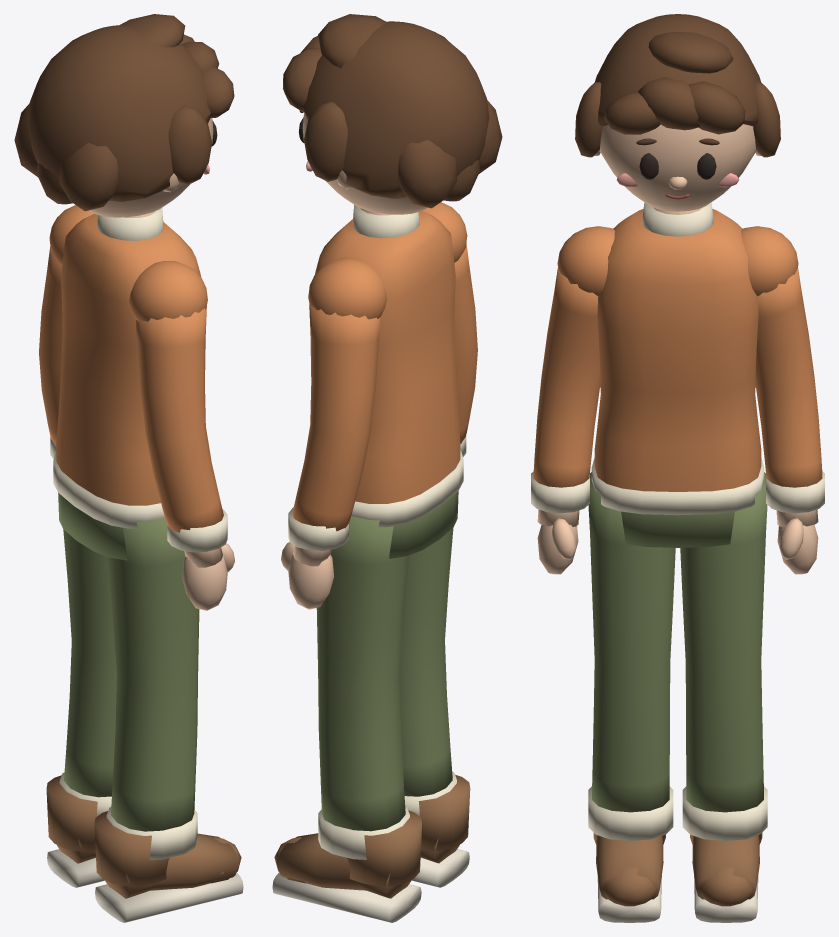
File: figure_proto.glb
3 views of the same model, side by side, from view 1: azimuth 30°, elevation 25°; view 2: azimuth 150°, elevation 25°; view 3: azimuth 270°, elevation 25° (orthographic).
Visible parts, largest first — view 1: figure_proto_fig_sweater, figure_proto_fig_pants, figure_proto_fig_hair, figure_proto_fig_shoe, figure_proto_fig_collar, figure_proto_fig_sole, figure_proto_fig_skin; view 2: figure_proto_fig_sweater, figure_proto_fig_pants, figure_proto_fig_hair, figure_proto_fig_shoe, figure_proto_fig_collar, figure_proto_fig_sole, figure_proto_fig_skin; view 3: figure_proto_fig_sweater, figure_proto_fig_pants, figure_proto_fig_hair, figure_proto_fig_collar, figure_proto_fig_skin, figure_proto_fig_shoe, figure_proto_fig_sole, figure_proto_fig_eye.
Part boxes in pixels (x1,y1,x2,y2): figure_proto_fig_sweater: (39,205,223,532); figure_proto_fig_pants: (58,492,199,831); figure_proto_fig_hair: (14,14,234,211); figure_proto_fig_shoe: (46,775,241,898); figure_proto_fig_collar: (50,208,227,860); figure_proto_fig_sole: (47,849,243,922); figure_proto_fig_skin: (89,118,234,610); figure_proto_fig_sweater: (292,202,477,531); figure_proto_fig_pants: (316,491,458,831); figure_proto_fig_hair: (283,14,502,208); figure_proto_fig_shoe: (274,774,470,898); figure_proto_fig_collar: (288,205,466,859); figure_proto_fig_sole: (272,849,469,922); figure_proto_fig_skin: (281,113,427,609); figure_proto_fig_sweater: (533,209,822,491); figure_proto_fig_pants: (588,472,767,812); figure_proto_fig_hair: (575,14,780,157); figure_proto_fig_collar: (531,202,824,840); figure_proto_fig_skin: (537,124,818,574); figure_proto_fig_shoe: (593,832,762,906); figure_proto_fig_sole: (597,875,758,922); figure_proto_fig_eye: (639,153,716,179).
Bounding box in the file's own units: 0.3341 × 1.58 × 0.4876.
